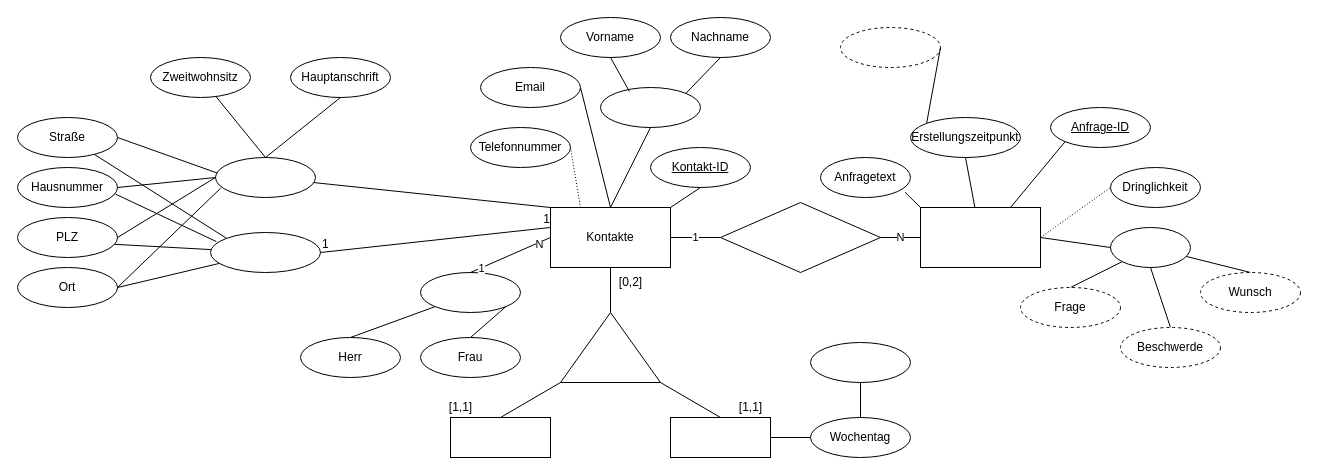
The diagram is 1318 pixels wide and 475 high, and some of its shapes have lost their labels. Each missing label, with the centre of its shape:
Anfragealter: the point at 890,47
Anrede: the point at 470,292
Hausanschrift: the point at 265,177
Kunde: the point at 500,437
Lieferungsfenster: the point at 860,362
Name: the point at 650,107
Rechnungsadresse: the point at 265,252
Rückfragen: the point at 980,237
stellen: the point at 800,237
Thema: the point at 1150,247
Zulieferer: the point at 720,437
